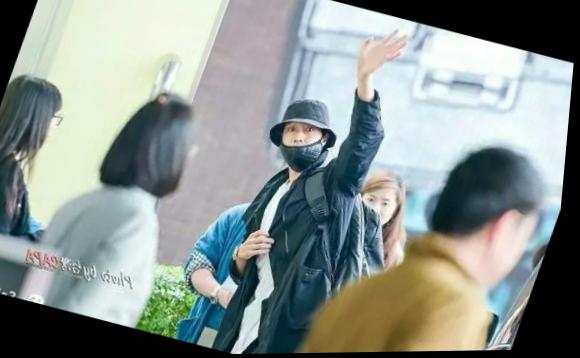NONE: (358, 189, 406, 230)
WRONG: (270, 112, 339, 177)
